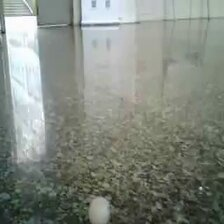w: (86, 195, 111, 224)
